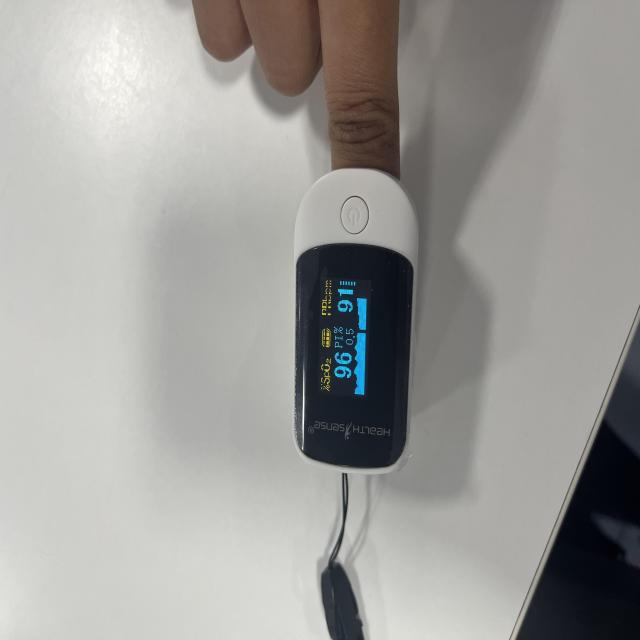spo2: (293, 168, 420, 475)
